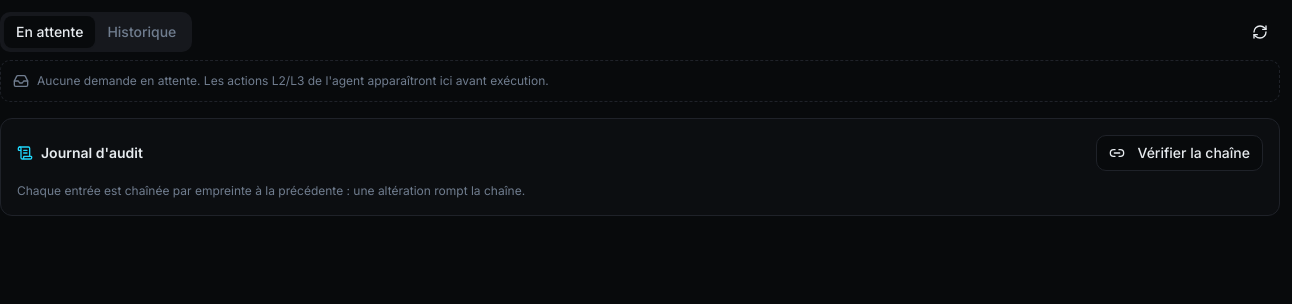
ApprovalsInbox › journal d'audit : vérifie la chaîne et liste les dernières entrées
Step 1. Click the button "Vérifier la chaîne" → (1180, 153), box [1096,135,1263,171]
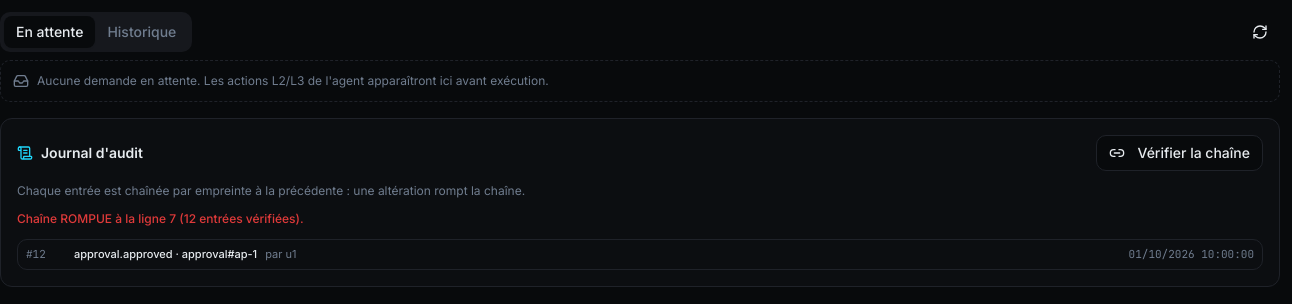
Expected: the text "Chaîne ROMPUE à la ligne 7 (12 entrées vérifiées)." is shown, [17,211,304,226]
Expected: the text "approval.approved · approval#ap-1" is shown, [74,246,257,262]
